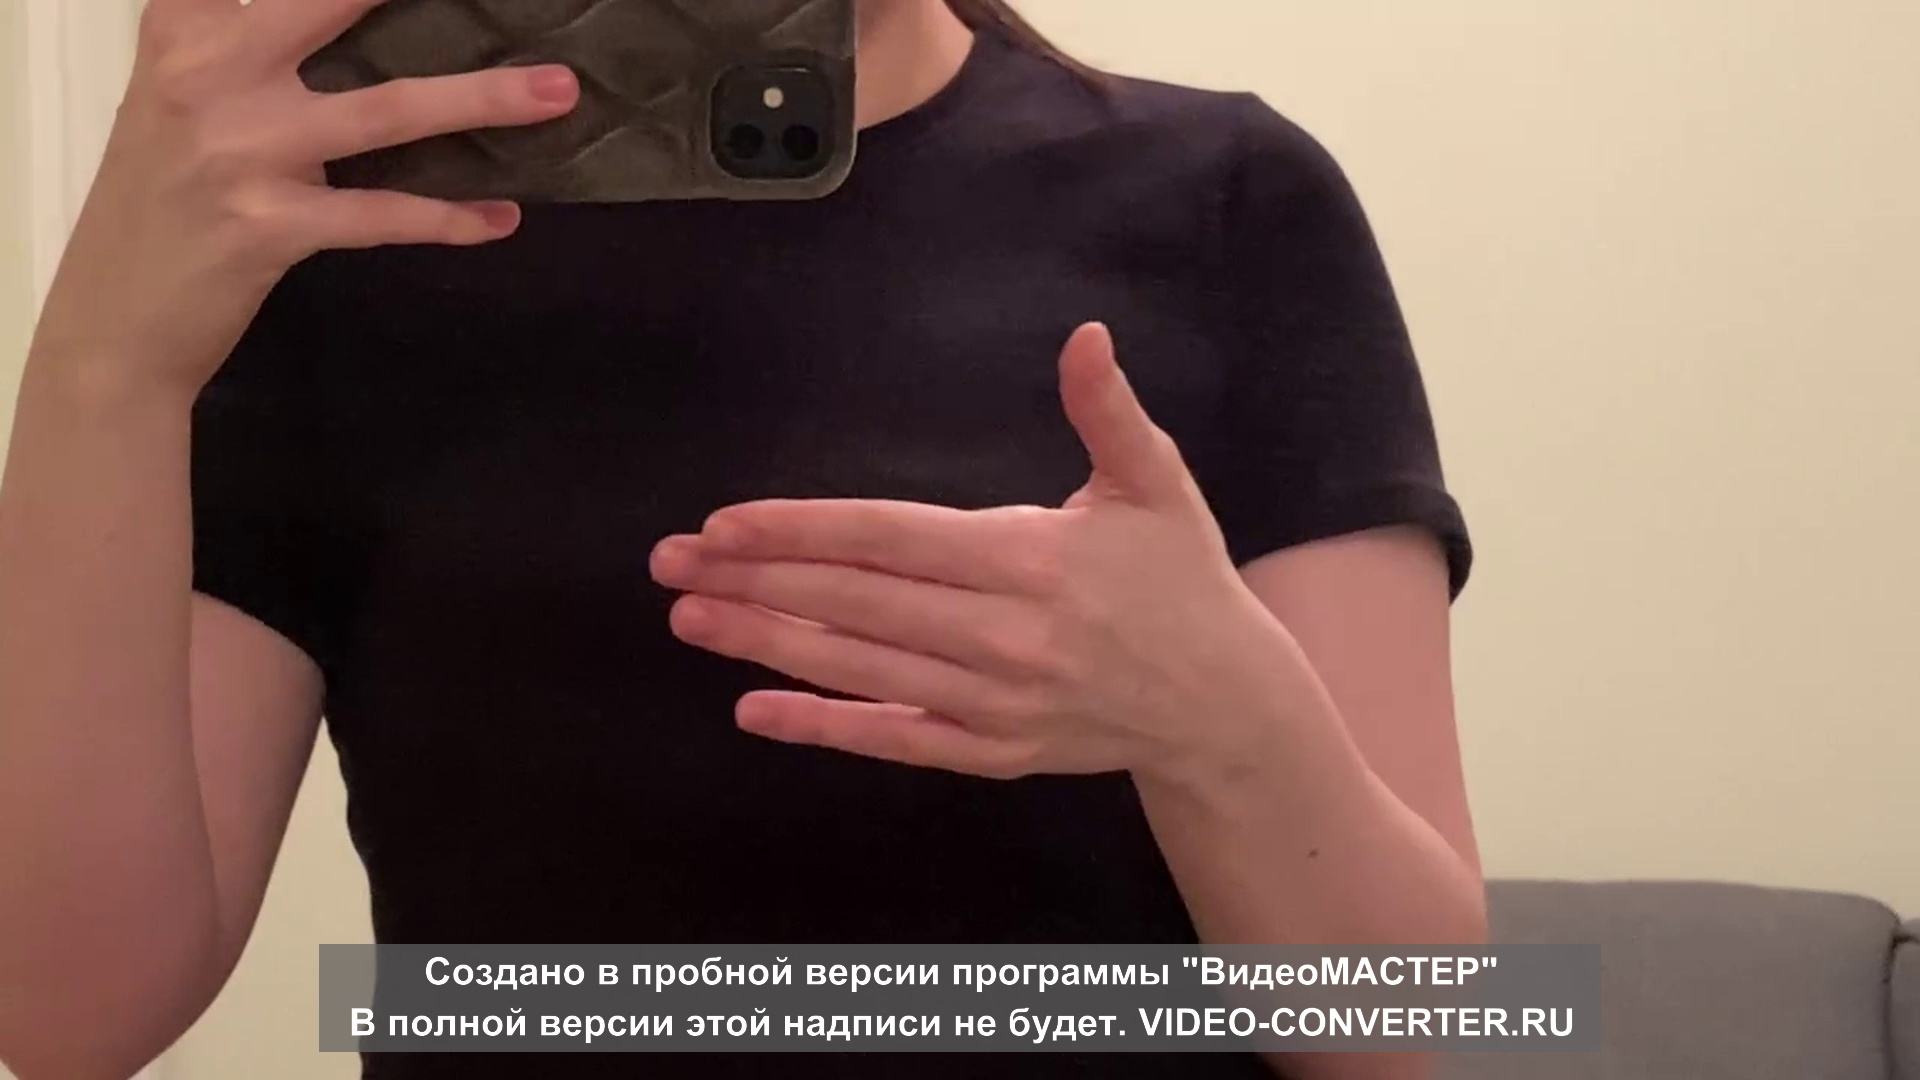Кисть: (645, 322, 1275, 779)
